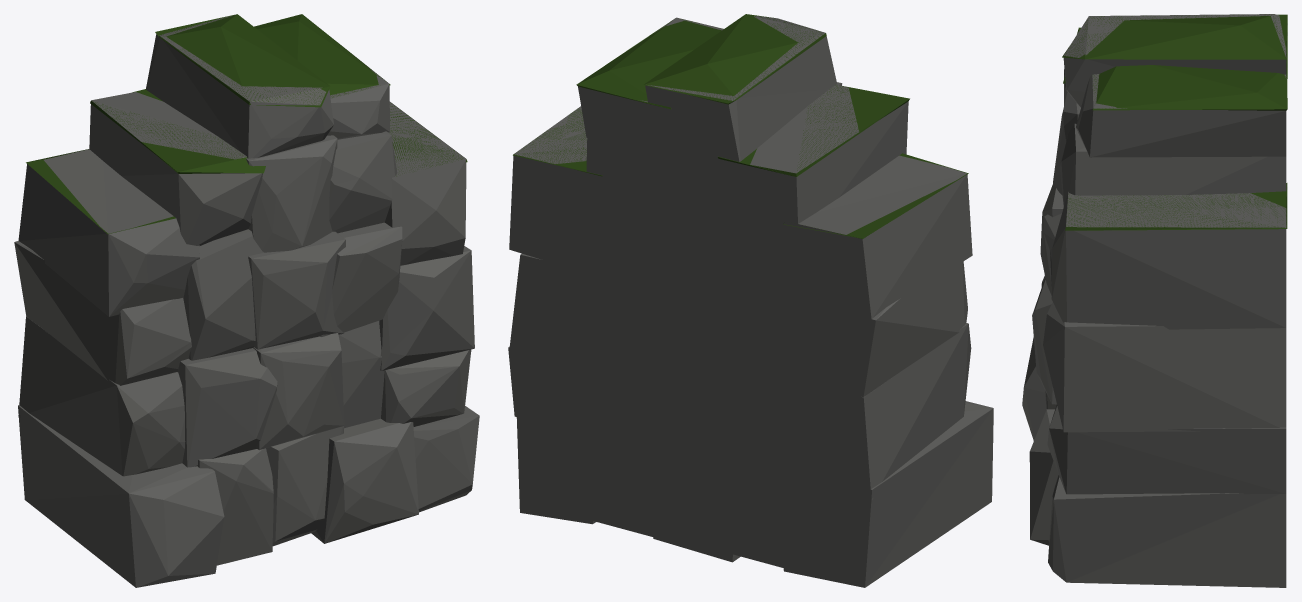
Rendered from acantilado_b.fbx.
3 views of the same model, side by side, from view 1: azimuth 30°, elevation 25°; view 2: azimuth 150°, elevation 25°; view 3: azimuth 270°, elevation 25° (orthographic). The views are drawn at different scales.
Parts seen in each view (by area): view 1: acantilado_b; view 2: acantilado_b; view 3: acantilado_b.
Boxes of the visible parts, x1,y1,x2,y2 form: acantilado_b: (14, 14, 479, 587); acantilado_b: (508, 14, 993, 587); acantilado_b: (1022, 14, 1287, 587).
Bounding box in the file's own units: 13.07 × 16.01 × 8.02.
